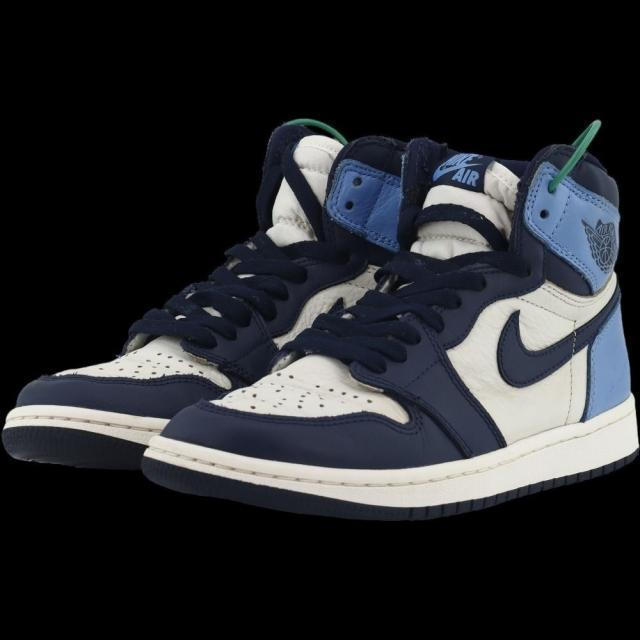nike original jordan 1: (136, 135, 640, 520), (1, 126, 422, 474)
